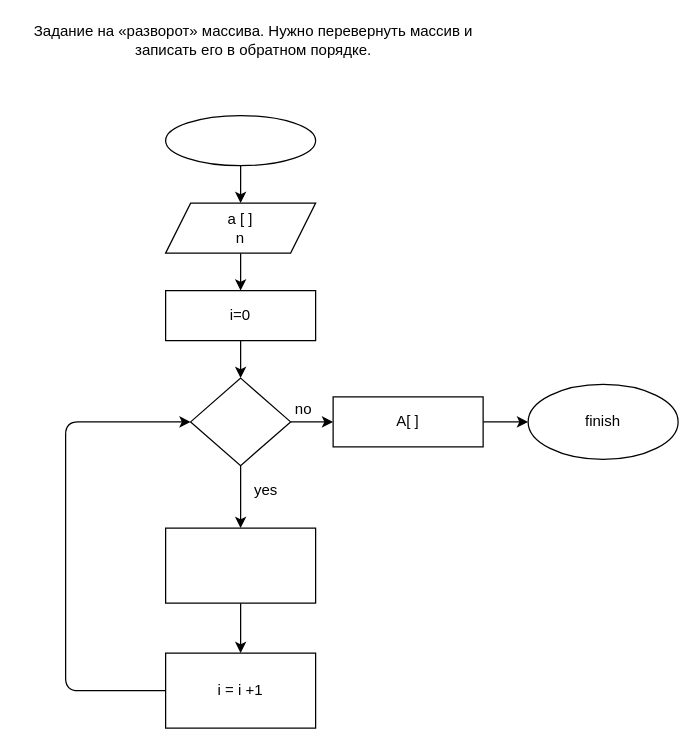
Some shapes in this 700 by 750 pixel diagram are drawn without their labels. The shapes that lost their labels are listed below. From the top down, each one's centre as x and y in pixels, then its label:
At point 240,140: "start".
At point 240,421: "i < n / 2?".
At point 240,565: "Revers = A[ i ] A [ i ] = A [ n-1-i ] A [ n-1-i ] = Revers".
